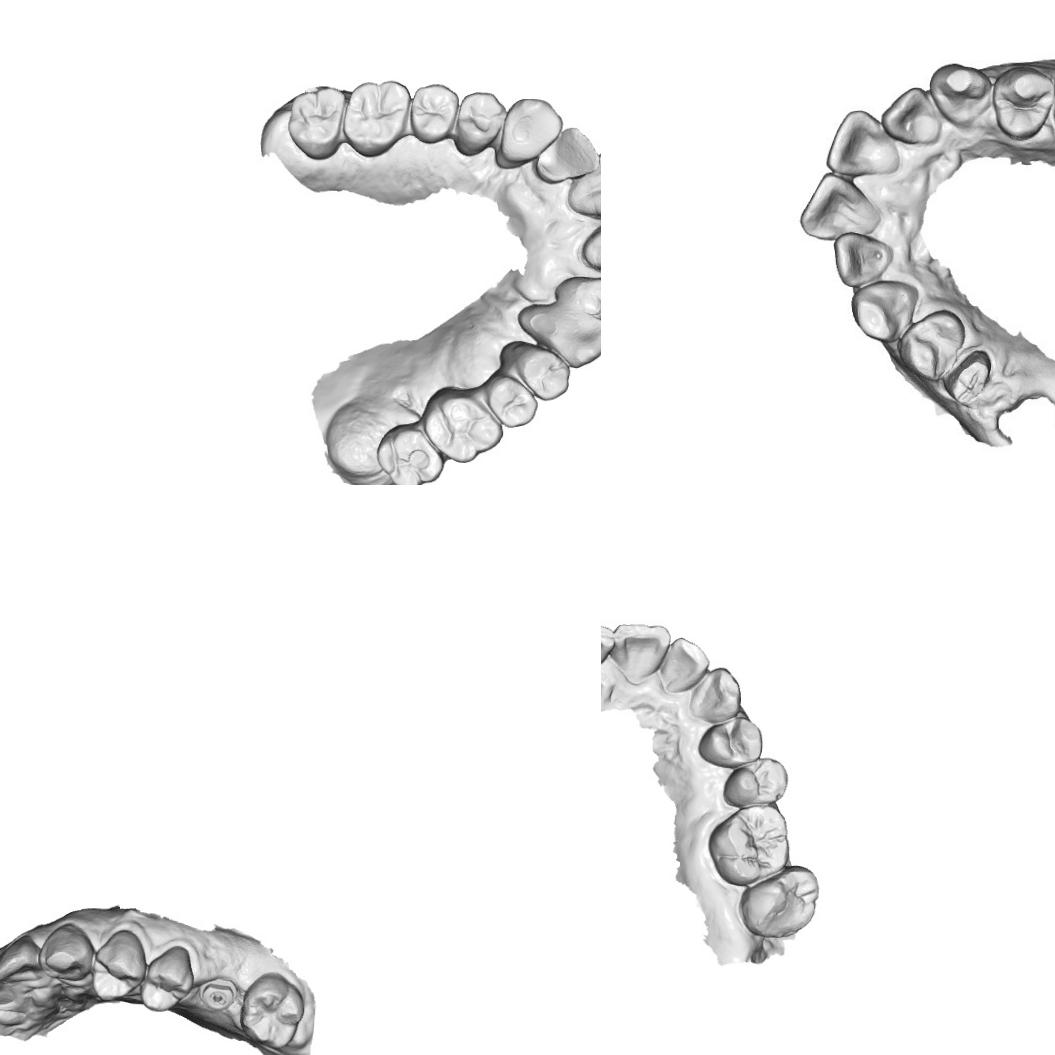canine: (516, 302, 601, 370), (494, 95, 565, 170), (928, 59, 992, 133), (849, 278, 918, 346), (38, 920, 96, 982), (687, 664, 744, 724)
crown: (940, 349, 996, 408)
implant_minus: (196, 974, 236, 1012)
incisor: (796, 171, 880, 242), (827, 106, 899, 181), (880, 83, 942, 153), (534, 125, 600, 185), (611, 622, 672, 683), (831, 231, 894, 289), (657, 634, 712, 695), (566, 144, 601, 217), (552, 274, 601, 324), (0, 932, 44, 985), (580, 208, 601, 283), (601, 614, 617, 679), (0, 962, 16, 1015)
molar: (706, 800, 793, 890), (738, 862, 824, 941), (421, 386, 505, 464), (237, 970, 307, 1054), (342, 78, 411, 159), (988, 65, 1054, 141), (285, 83, 346, 161), (374, 421, 445, 485)
premolar: (893, 308, 968, 384), (498, 339, 573, 402), (90, 927, 148, 1006), (141, 942, 197, 1014), (694, 714, 766, 768), (722, 756, 790, 810), (454, 90, 507, 158), (408, 78, 460, 146), (480, 371, 540, 429)
